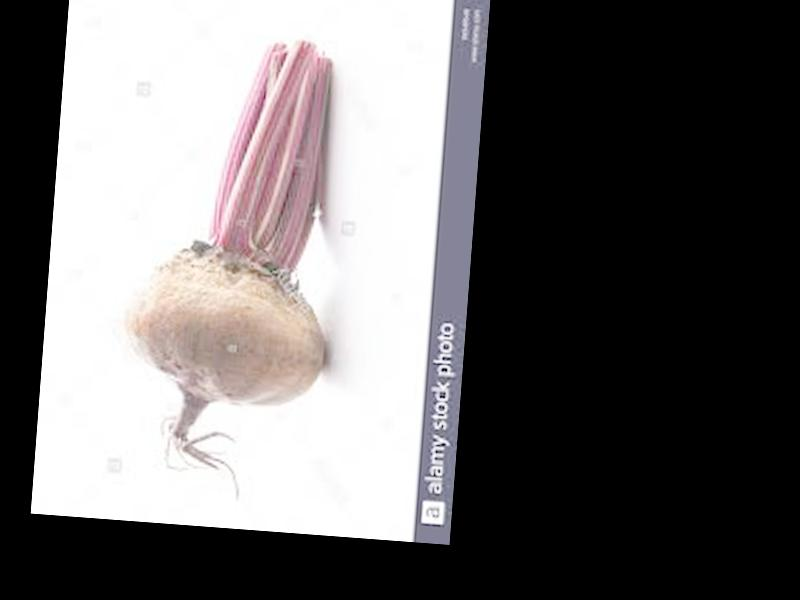Beet: (113, 28, 349, 505)
